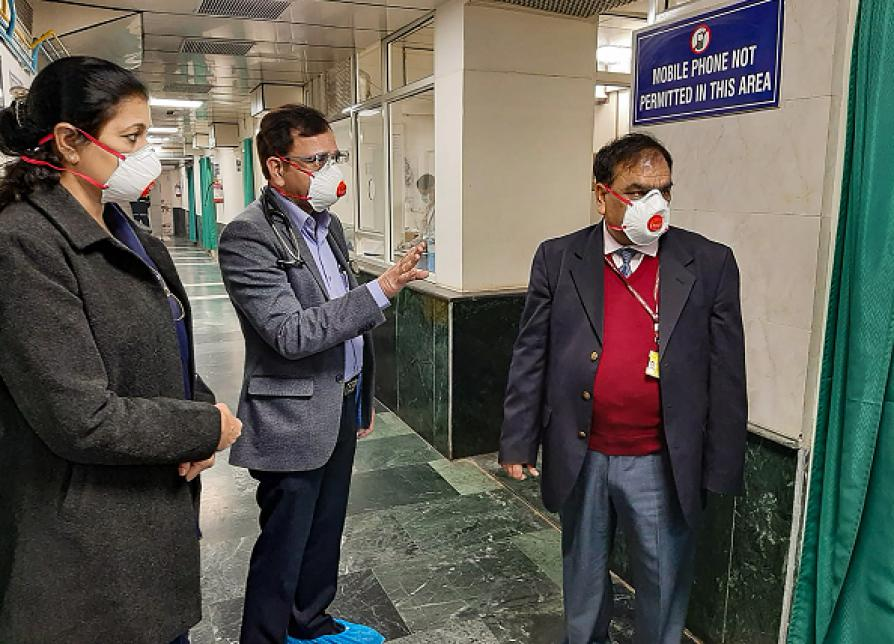mask: (85, 117, 162, 207), (608, 175, 675, 247), (288, 147, 348, 213)
